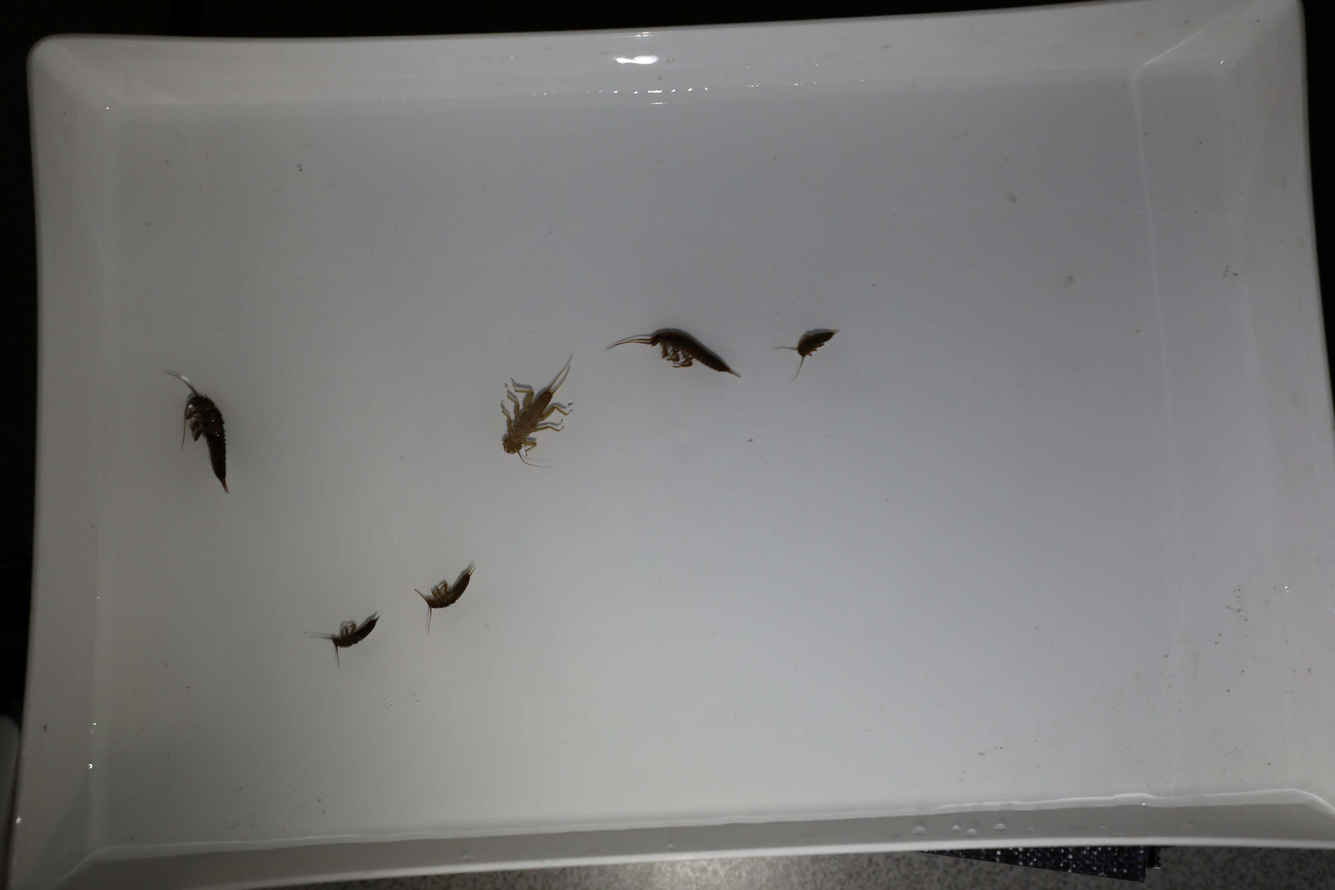Stonefly: (490, 353, 578, 472), (162, 365, 238, 500), (604, 325, 741, 378), (406, 563, 472, 632), (768, 327, 839, 383), (314, 611, 380, 662)
